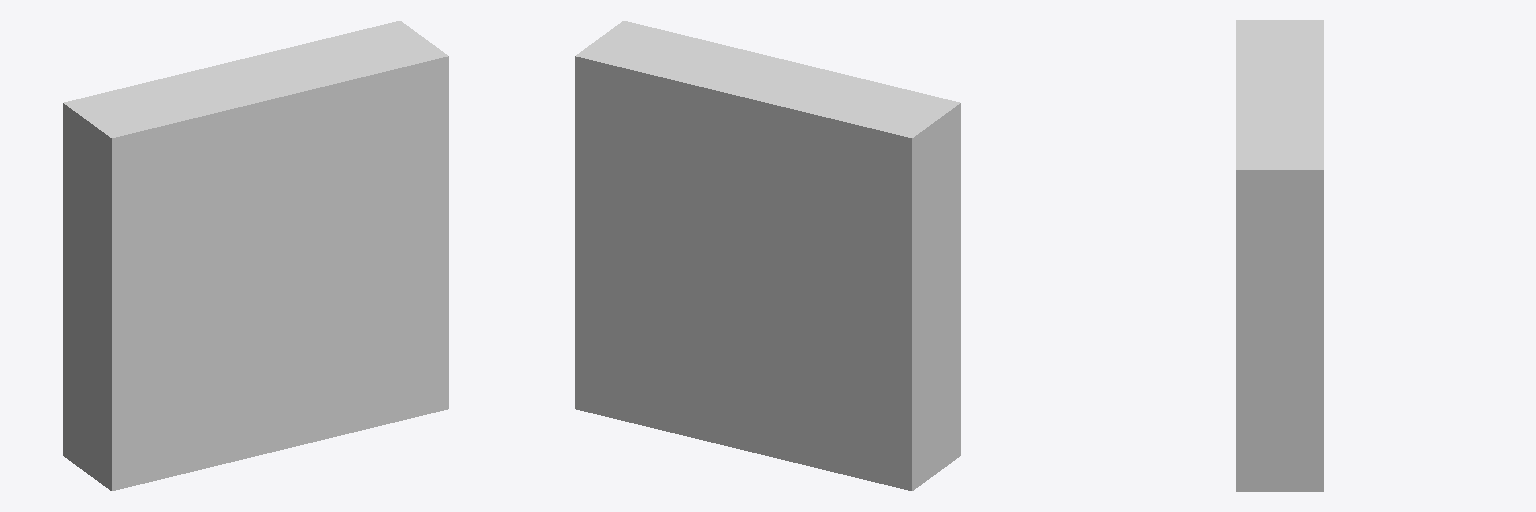
The robot description file, URDF, robot "simple_cube":
<?xml version="1.0"?>
<robot name="simple_cube">

  <!-- Link definition for the cube -->
  <link name="cube">
    <visual>
      <geometry>
        <box size=".4 .1 .4"/>
      </geometry>
      <material name="color">
        <color rgba="0.9 0.9 0.9 1"/>
      </material>
    </visual>

    <collision>
      <geometry>
        <box size=".4 .1 .4"/>
      </geometry>
    </collision>

    <inertial>
      <mass value="1.0"/>
      <inertia ixx="0.166" ixy="0" ixz="0" iyy="0.166" iyz="0" izz="0.166"/>
    </inertial>
  </link>

</robot>

--- What the picture shows (computed from the rendered views, not written in the file) ---
The picture shows the robot from 3 angles, left to right: view 1: azimuth 30°, elevation 25°; view 2: azimuth 150°, elevation 25°; view 3: azimuth 270°, elevation 25°; orthographic projection.
Robot: simple_cube — 1 links, 0 joints (none); root link cube; default pose: every joint at zero.
Visible links, largest first — view 1: cube; view 2: cube; view 3: cube.
Boxes of the visible links, bbox=[...] form: cube: bbox=[63, 21, 448, 490]; cube: bbox=[575, 21, 960, 490]; cube: bbox=[1236, 20, 1323, 491].
Size in the robot's own frame: 0.4 by 0.1 by 0.4 metres.
Geometry: primitives only (box / cylinder / sphere), no mesh files.
